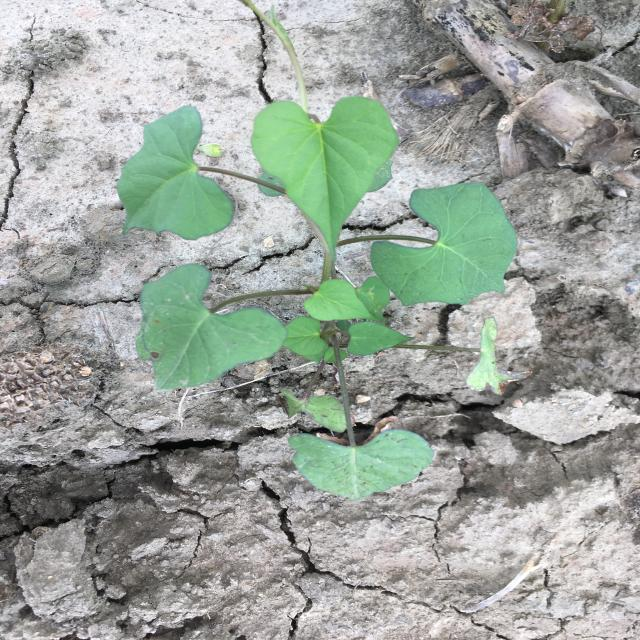MorningGlory: (116, 0, 518, 502)
